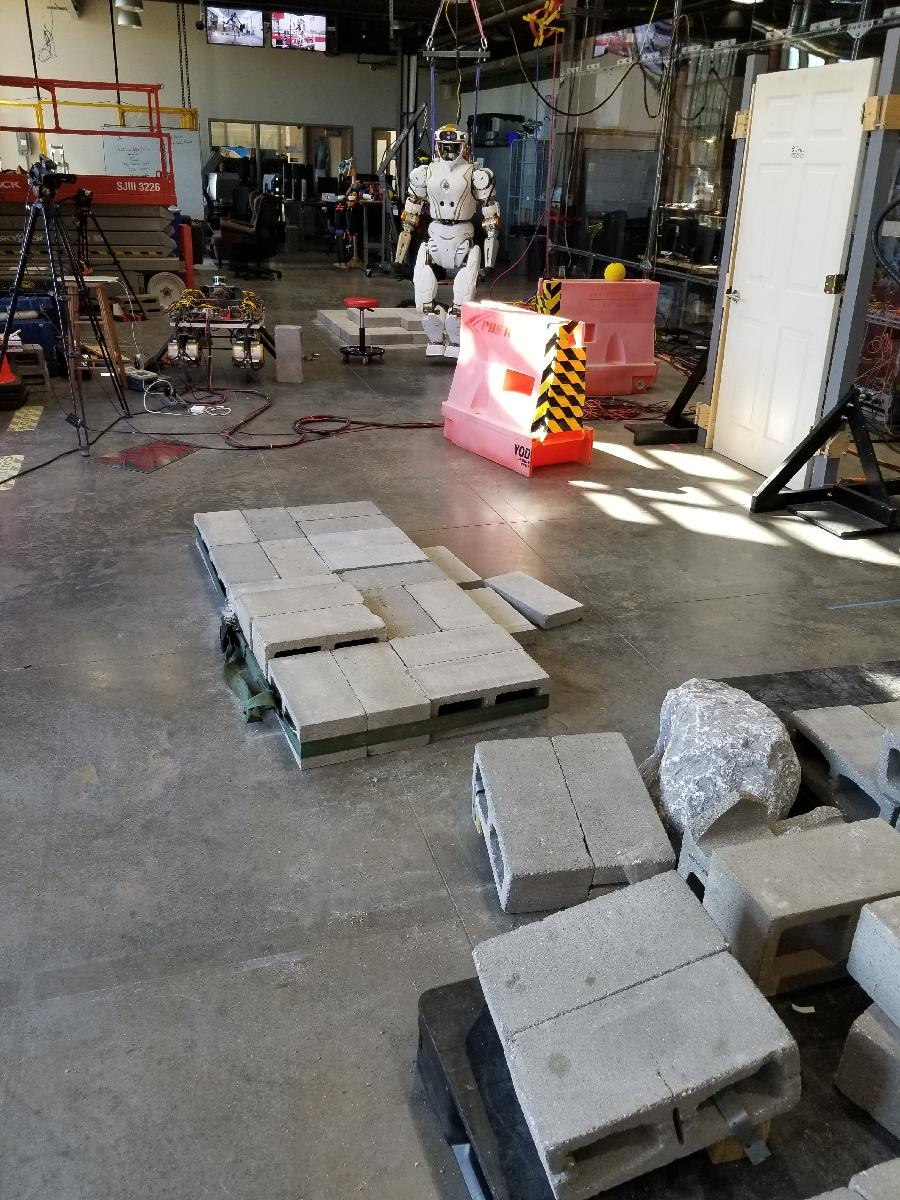door: (705, 55, 882, 504)
doorHandle: (726, 290, 747, 306)
